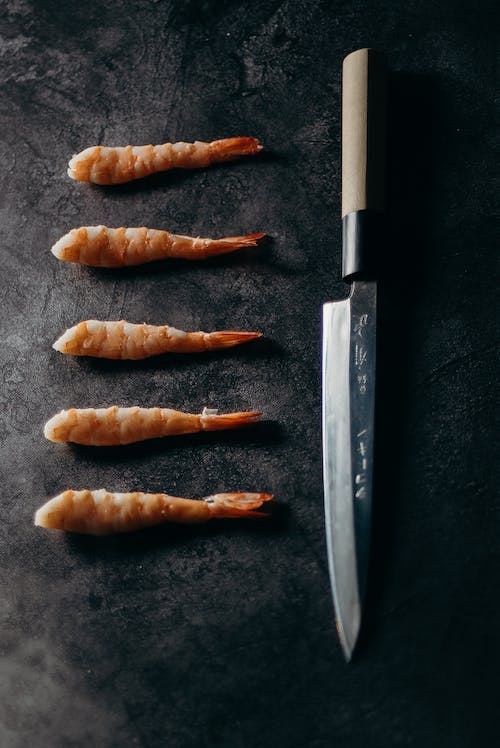knife: (314, 39, 385, 666)
